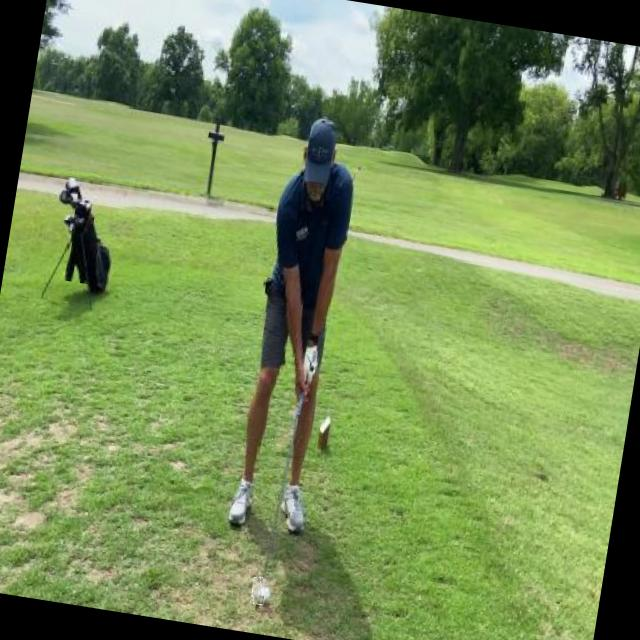club head: (250, 576, 266, 606)
